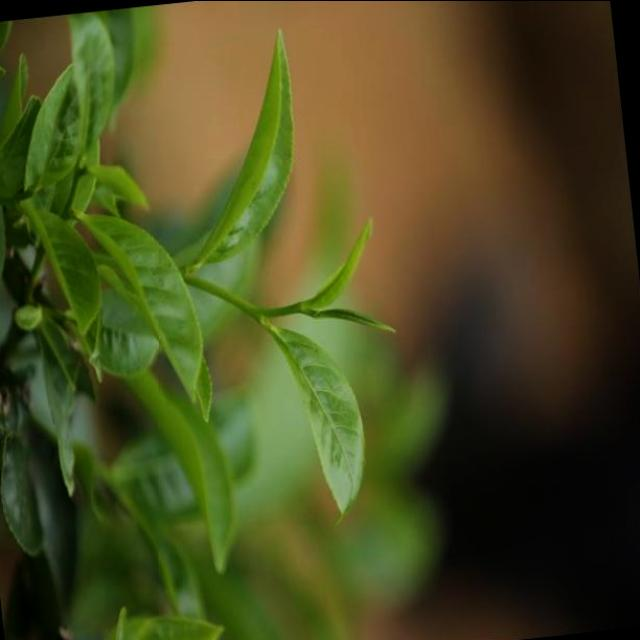Stem: (254, 309, 268, 318)
